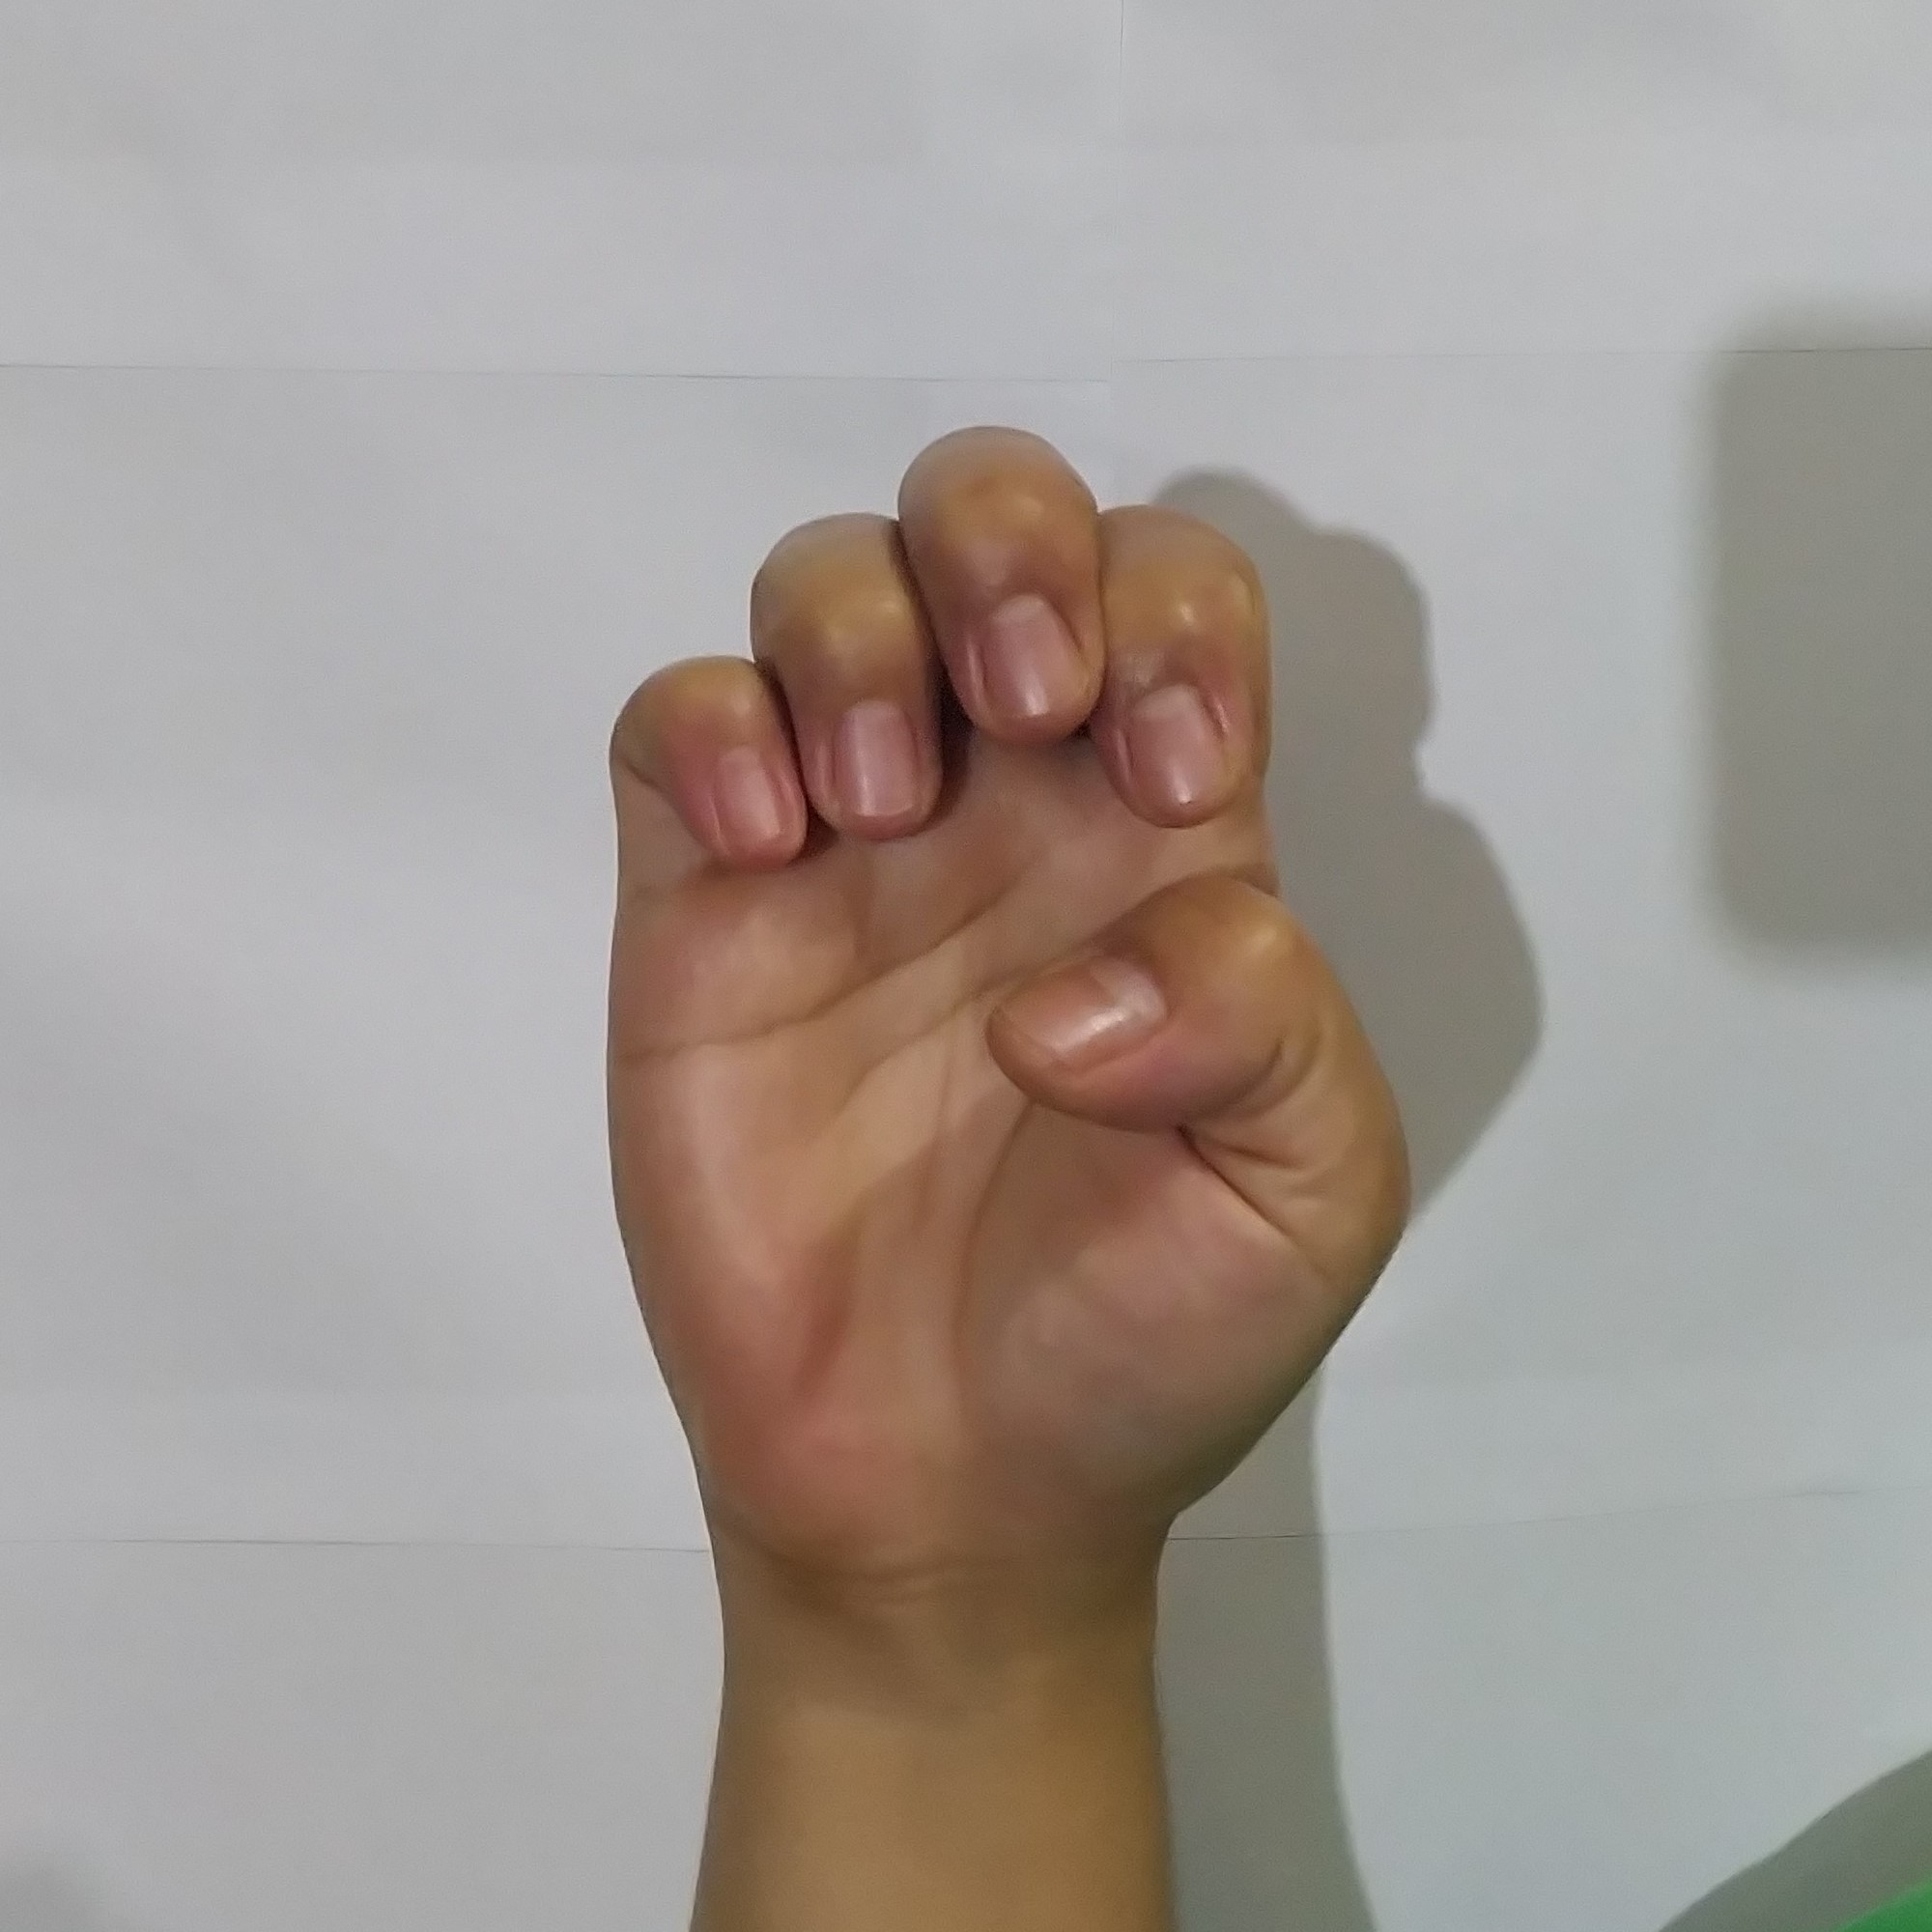E: (573, 407, 1433, 1571)
